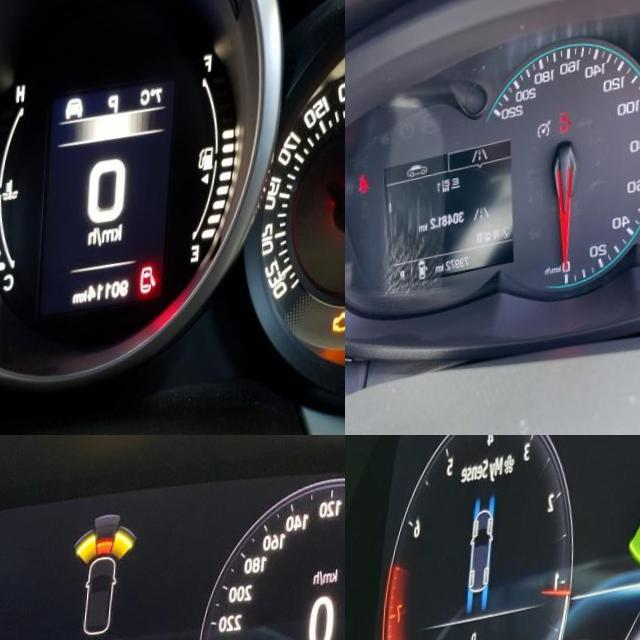Doors: (143, 274, 162, 304), (562, 122, 577, 147)
